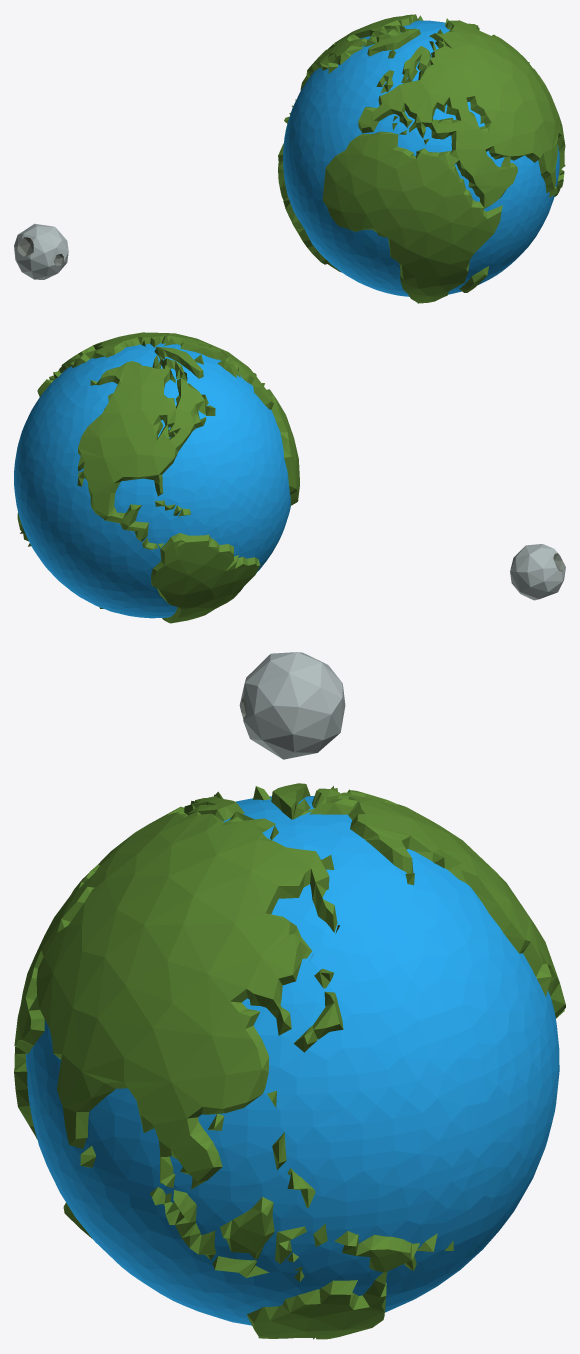
Rendered from earth(1).fbx.
3 renders of one model, top to bottom at view 1: azimuth 30°, elevation 25°; view 2: azimuth 150°, elevation 25°; view 3: azimuth 270°, elevation 25°, orthographic. The views are drawn at different scales.
Visible parts, largest first — view 1: earth_1, moon; view 2: earth_1, moon; view 3: earth_1, moon.
Boxes of the visible parts, <box> form: earth_1: <box>278,14,565,303</box>; moon: <box>14,223,68,279</box>; earth_1: <box>14,332,299,623</box>; moon: <box>510,544,565,600</box>; earth_1: <box>14,783,565,1339</box>; moon: <box>239,652,345,759</box>.
Bounding box in the file's own units: 446 × 210 × 209.
